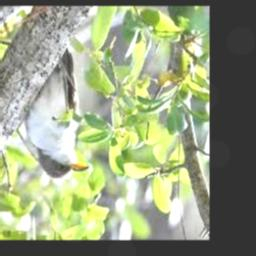Cuckoo: (24, 47, 89, 180)
